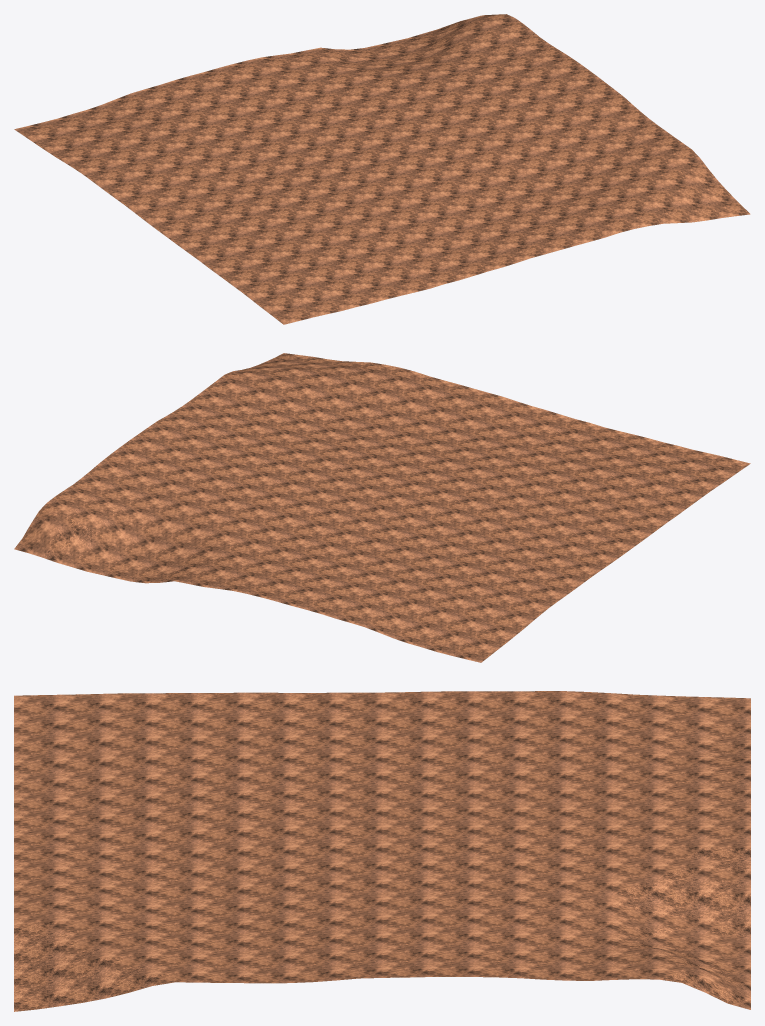
The model's file is terrain_00_11.dae.
The picture shows the model from 3 angles, top to bottom: view 1: azimuth 30°, elevation 25°; view 2: azimuth 150°, elevation 25°; view 3: azimuth 270°, elevation 25°; orthographic projection. The views are drawn at different scales.
Visible parts, largest first — view 1: terrain_00_11-node; view 2: terrain_00_11-node; view 3: terrain_00_11-node.
Part boxes in pixels (x1,y1,x2,y2): terrain_00_11-node: (14,14,750,324); terrain_00_11-node: (14,353,750,662); terrain_00_11-node: (14,691,750,1011).
Bounding box in the file's own units: 128 × 128 × 7.59.
1 material, 1 textured.
